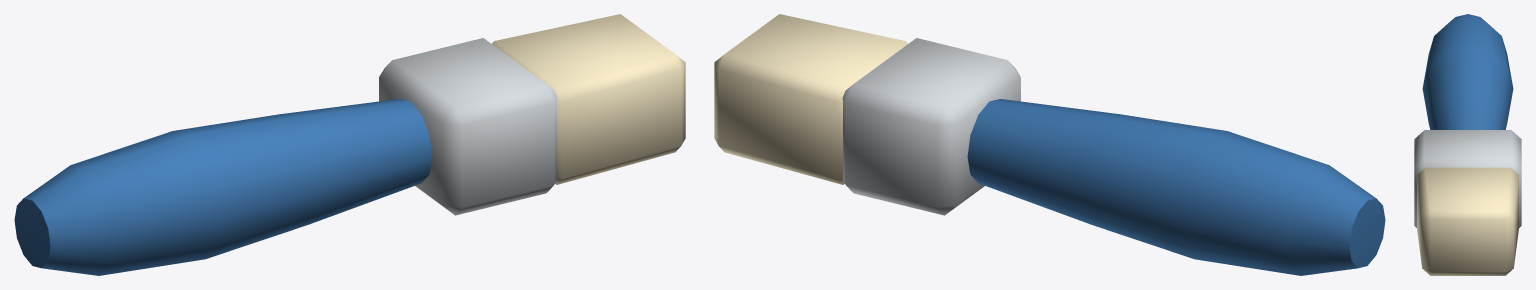
The model's file is SM_PaintBrush_01.glb.
The picture shows the model from 3 angles, left to right: view 1: azimuth 30°, elevation 25°; view 2: azimuth 150°, elevation 25°; view 3: azimuth 270°, elevation 25°; orthographic projection. The views are drawn at different scales.
Visible parts, largest first — view 1: SM_PaintBrush_01; view 2: SM_PaintBrush_01; view 3: SM_PaintBrush_01.
Part boxes in pixels (x1=…): SM_PaintBrush_01: x1=14, y1=14, x2=685, y2=275; SM_PaintBrush_01: x1=714, y1=14, x2=1385, y2=275; SM_PaintBrush_01: x1=1414, y1=14, x2=1521, y2=275.
Size of the model in its own units: 0.24 by 0.044 by 0.052.
1 material, 1 textured.
